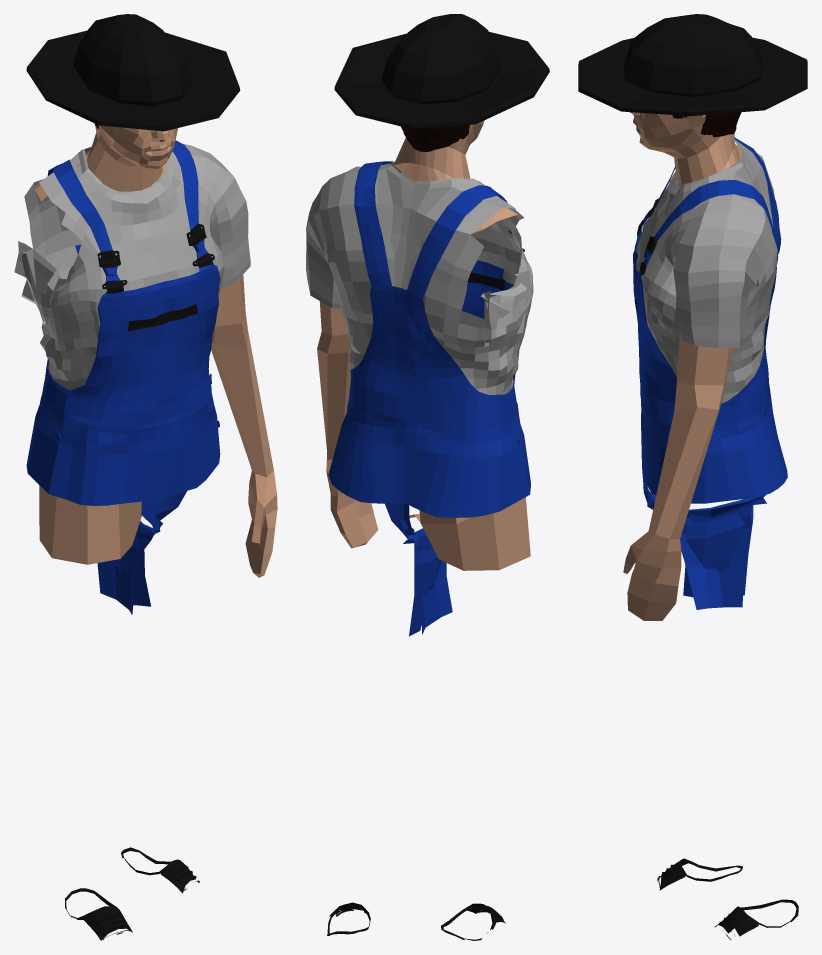
The model's file is torso_farmer.obj.
The picture shows the model from 3 angles, left to right: view 1: azimuth 30°, elevation 25°; view 2: azimuth 150°, elevation 25°; view 3: azimuth 270°, elevation 25°; orthographic projection. The views are drawn at different scales.
Parts seen in each view (by area): view 1: Worker.009, Hat.001, Worker.003; view 2: Worker.009, Hat.001, Worker.003; view 3: Worker.009, Worker.003, Hat.001.
Part boxes in pixels (left/top/right/bottom): Worker.009: left=14, top=123, right=234, bottom=940; Hat.001: left=26, top=14, right=240, bottom=131; Worker.003: left=192, top=146, right=277, bottom=577; Worker.009: left=324, top=120, right=533, bottom=940; Hat.001: left=334, top=14, right=549, bottom=128; Worker.003: left=306, top=168, right=378, bottom=548; Worker.009: left=629, top=112, right=798, bottom=940; Worker.003: left=623, top=210, right=770, bottom=620; Hat.001: left=578, top=14, right=807, bottom=116.
Bounding box in the file's own units: 0.446 × 1.76 × 0.4159.
